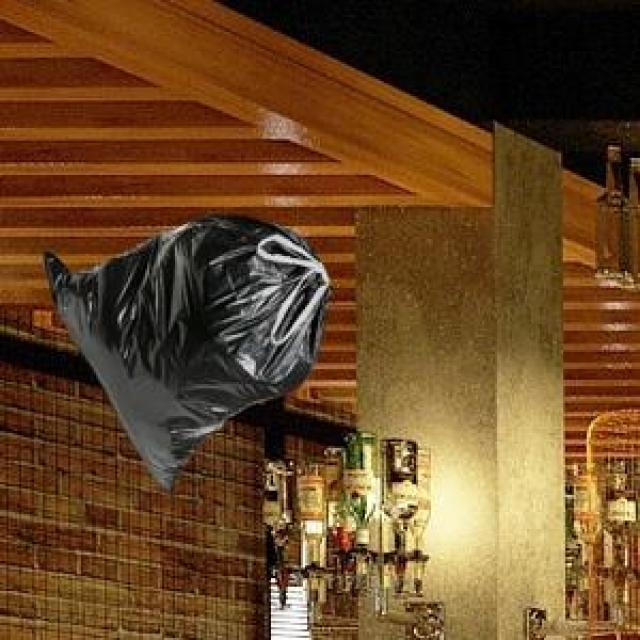miscellaneous trash: (38, 211, 329, 486)
